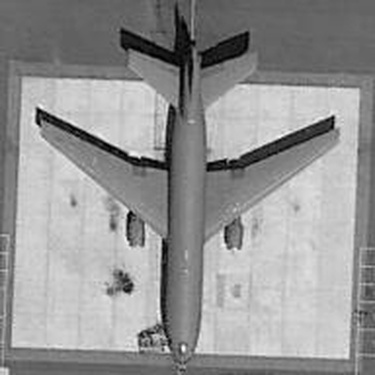airplane: (28, 4, 343, 365)
